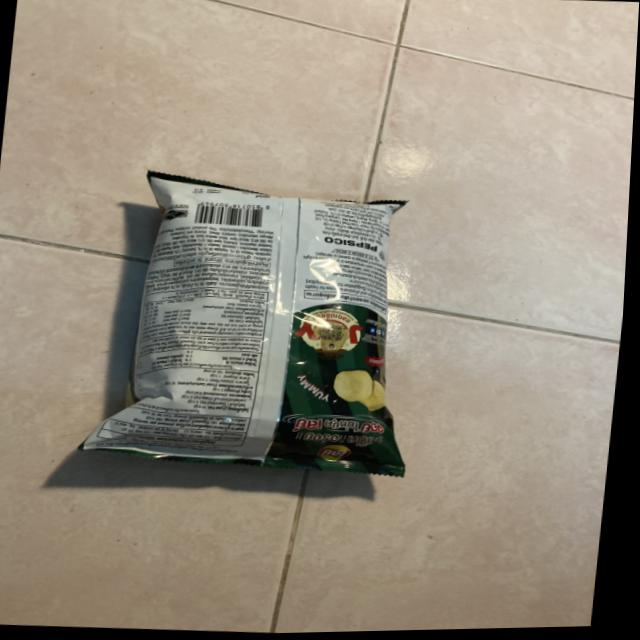Laygreen: (66, 142, 449, 516)
